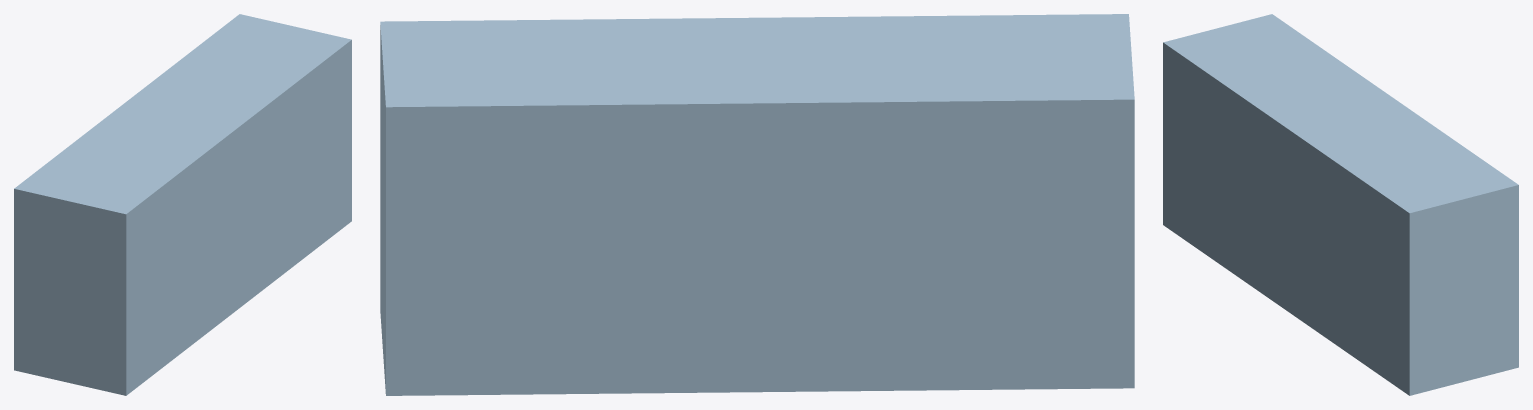
File: osm_way_225265335.glb
3 views of the same model, side by side, from view 1: azimuth 30°, elevation 25°; view 2: azimuth 150°, elevation 25°; view 3: azimuth 270°, elevation 25° (orthographic). The views are drawn at different scales.
Visible parts, largest first — view 1: osm_way_225265335; view 2: osm_way_225265335; view 3: osm_way_225265335.
Boxes of the visible parts, x1,y1,x2,y2 form: osm_way_225265335: (14, 14, 351, 395); osm_way_225265335: (380, 14, 1134, 395); osm_way_225265335: (1163, 14, 1518, 395).
Size of the model in its own units: 44.94 by 19.2 by 33.9.
